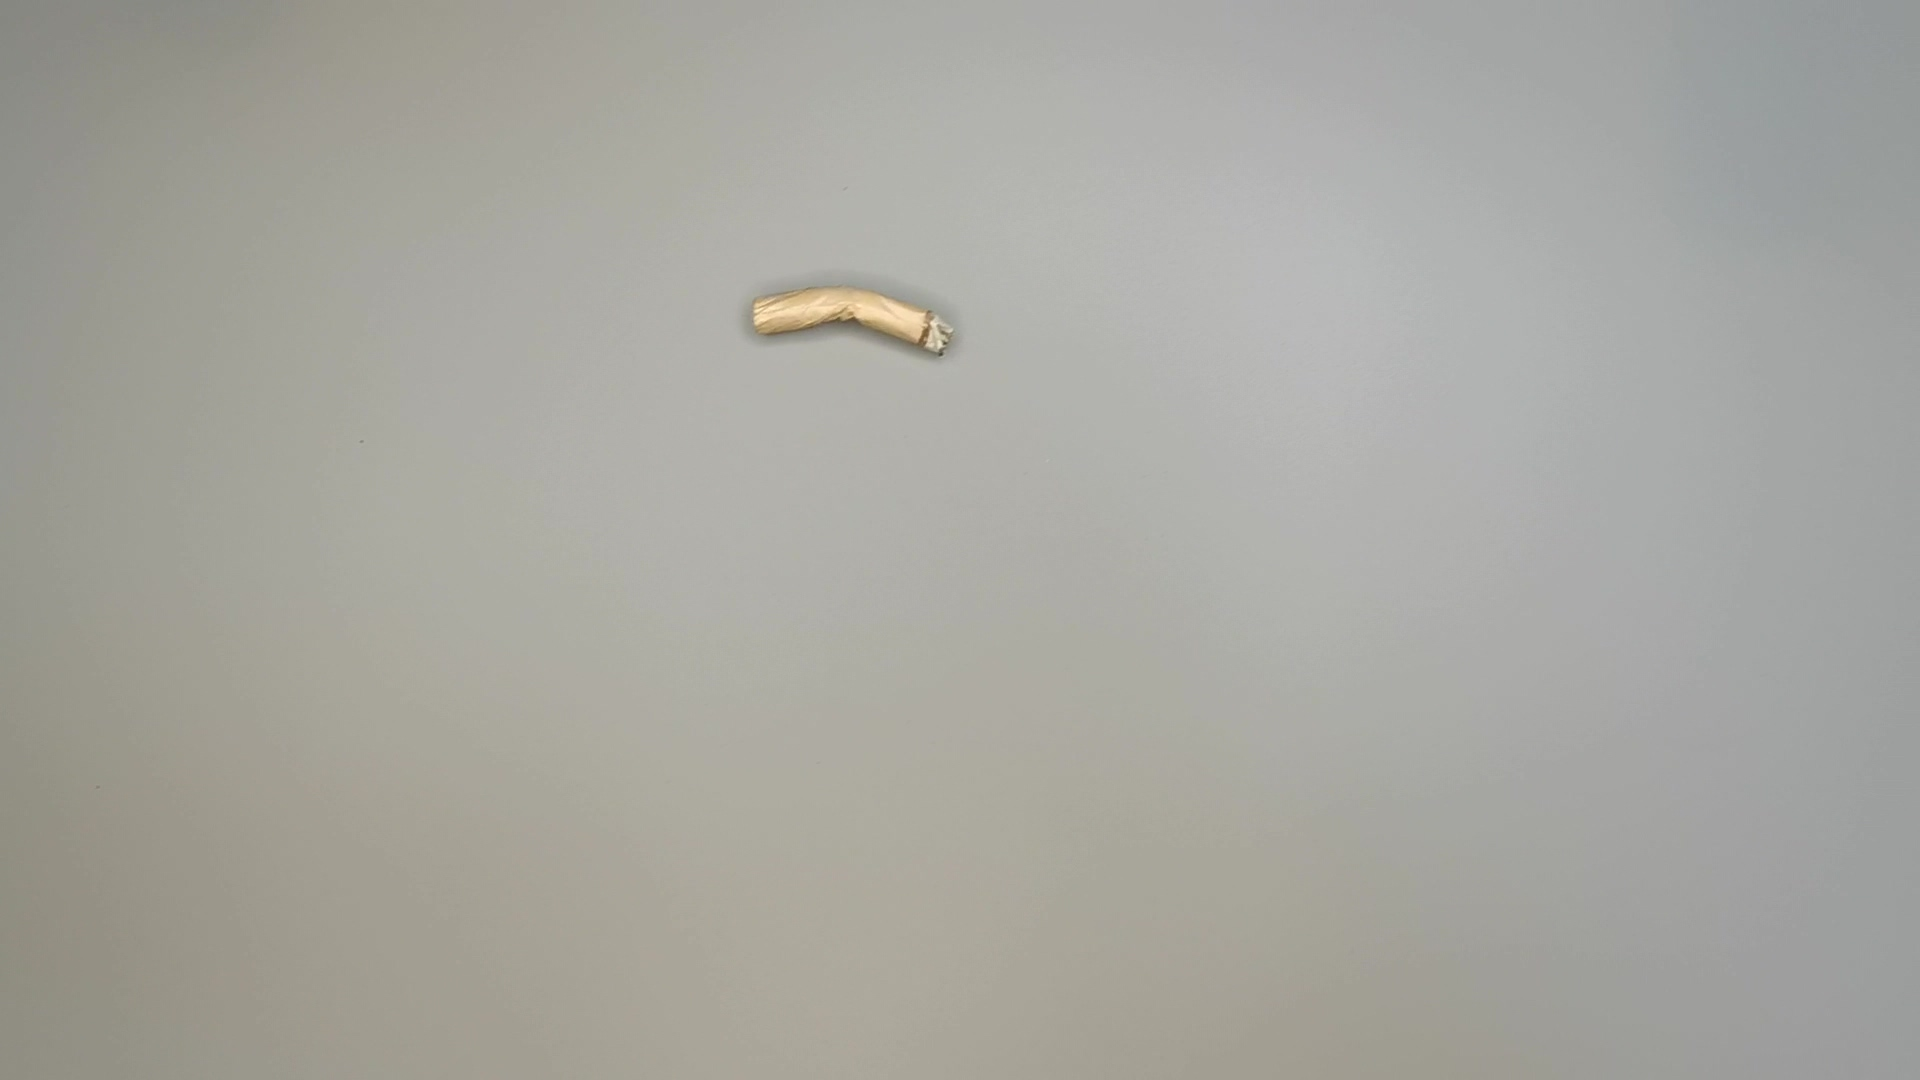cigarette: (746, 282, 963, 365)
